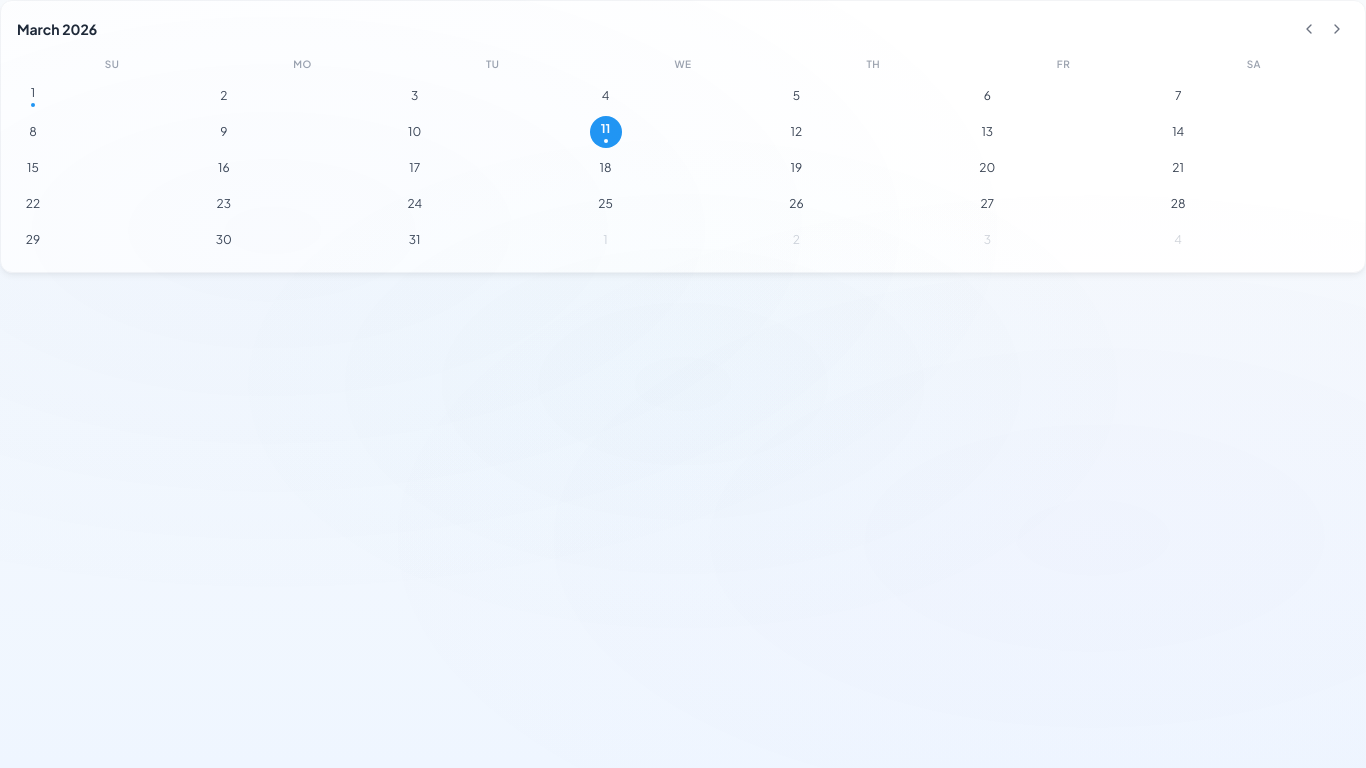
it: MiniCalendar Component › opens modal and displays appointments on date click
This screenshot has width=1366, height=768.
Click the element showing "11": (606, 132) [590,116,622,148]
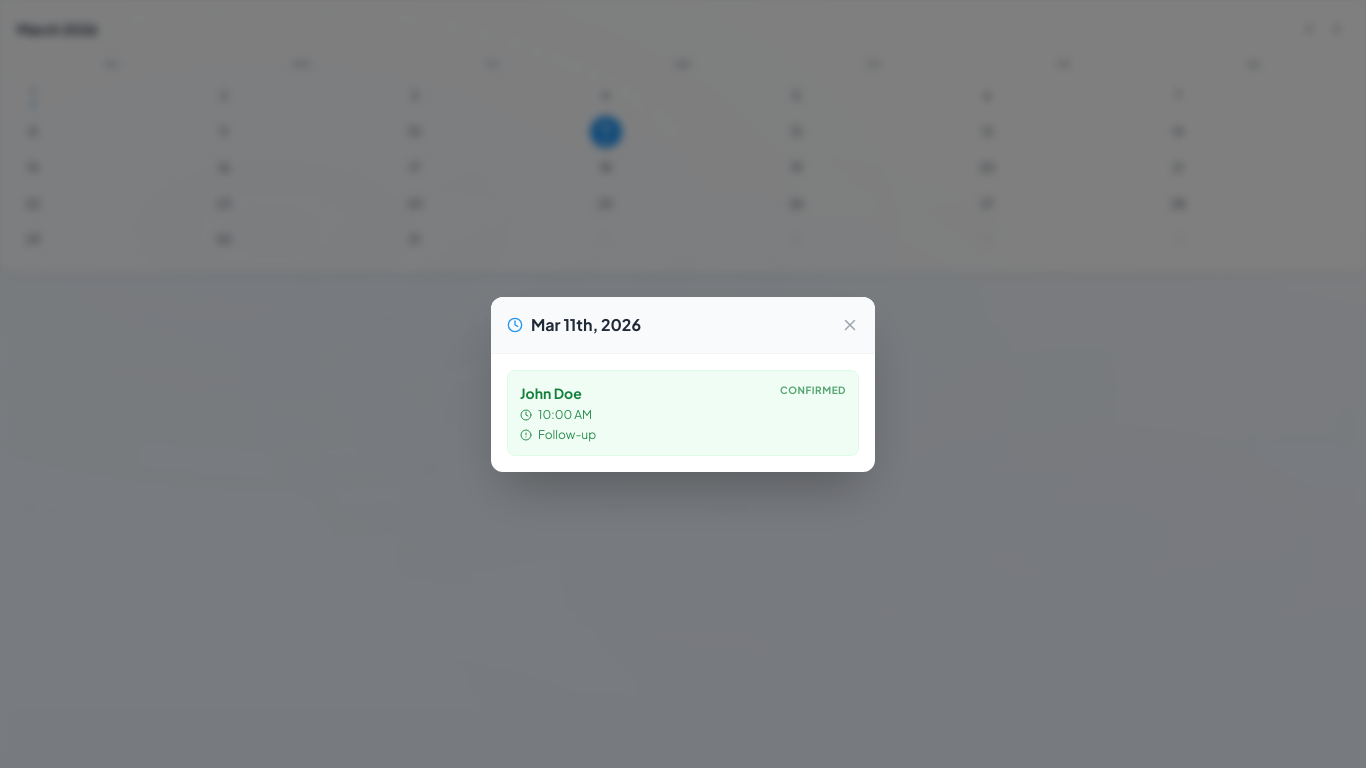
Result: the text "John Doe" is shown at [520,382,582,402]
Result: the text "Follow-up" is shown at [520,426,596,442]
